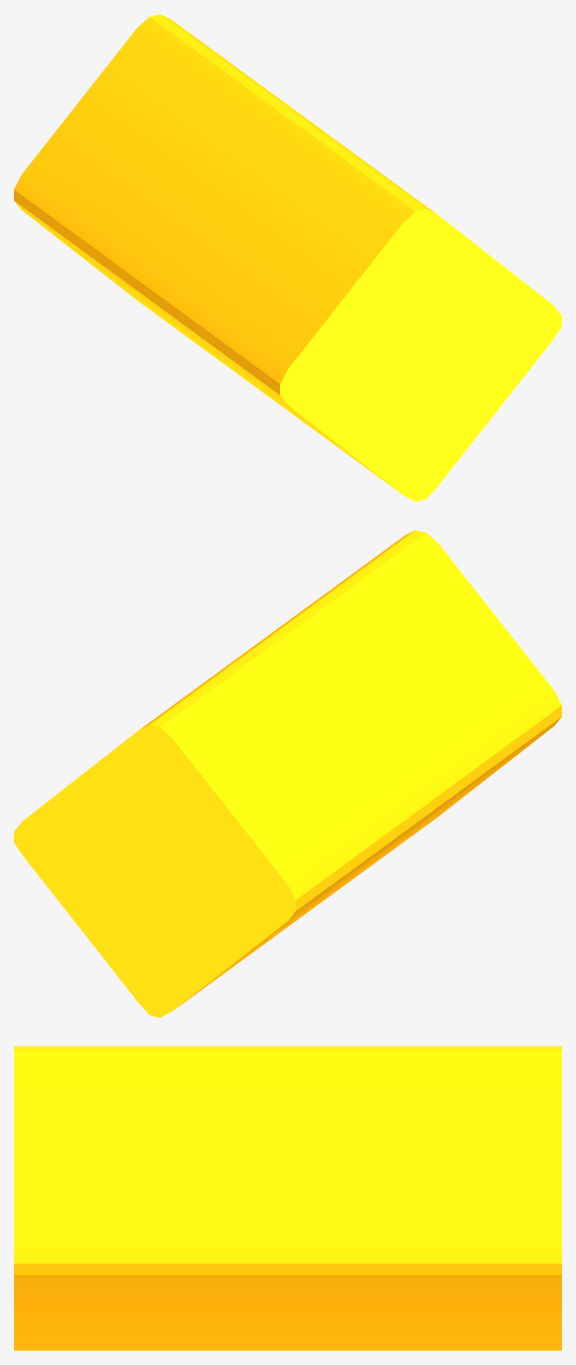
File: 3e2ff82b-f2e6-483e-b0e9-335c74edcc4e.glb
The picture shows the model from 3 angles, top to bottom: view 1: azimuth 30°, elevation 25°; view 2: azimuth 150°, elevation 25°; view 3: azimuth 270°, elevation 25°; orthographic projection. The views are drawn at different scales.
Visible parts, largest first — view 1: ._Soul_Yellow; view 2: ._Soul_Yellow; view 3: ._Soul_Yellow.
Part boxes in pixels (x1=…): ._Soul_Yellow: x1=14, y1=14, x2=561, y2=501; ._Soul_Yellow: x1=14, y1=530, x2=561, y2=1017; ._Soul_Yellow: x1=14, y1=1046, x2=561, y2=1350.
Size of what is drawn, in the model's own units: 0.0275 by 0.0271 by 0.045.
Materials: 2 (2 with a texture image).
